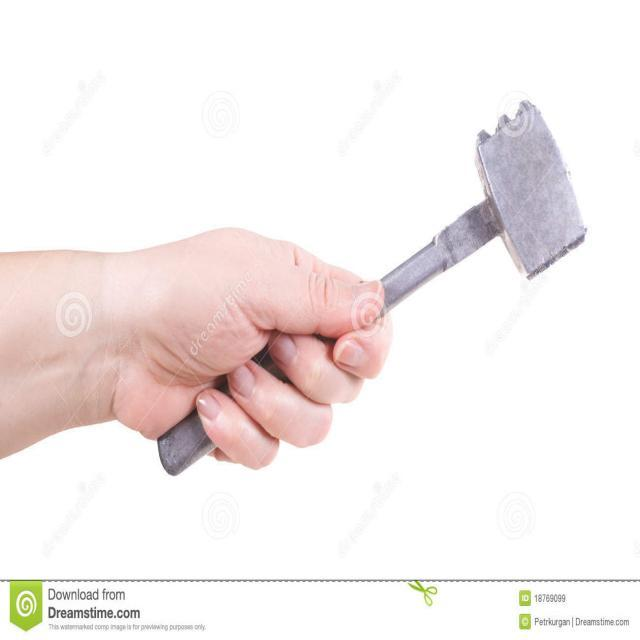hammer: (155, 93, 591, 480)
